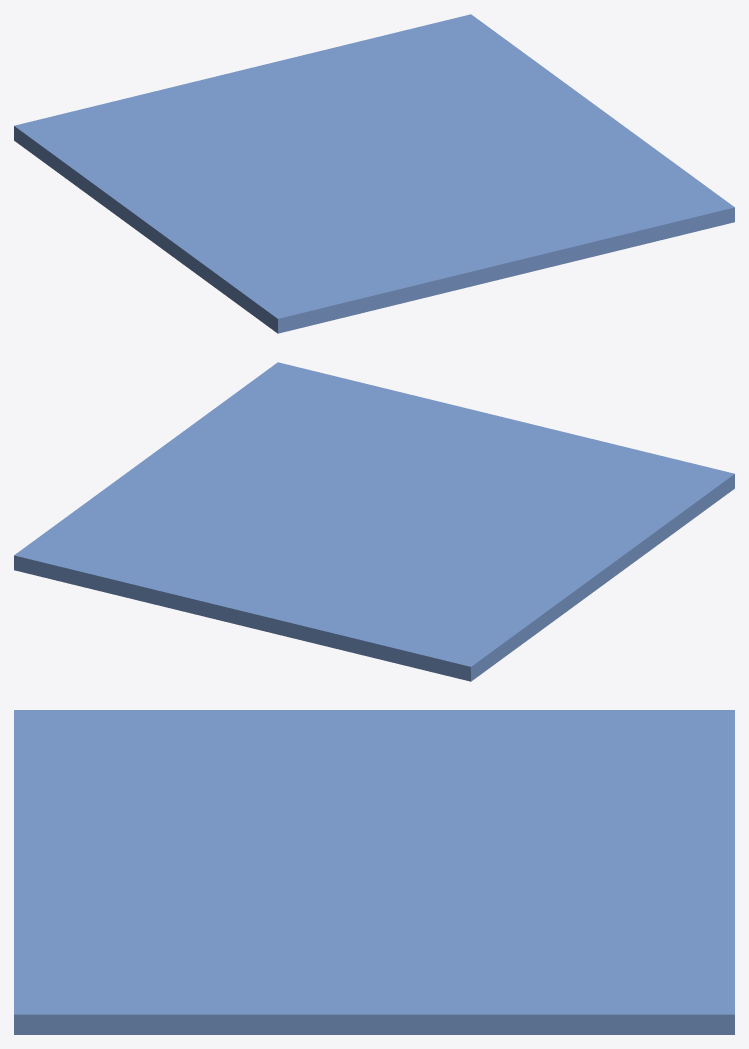
The model's file is Keypad - Body.gltf.
3 renders of one model, top to bottom at view 1: azimuth 30°, elevation 25°; view 2: azimuth 150°, elevation 25°; view 3: azimuth 270°, elevation 25°, orthographic. The views are drawn at different scales.
Parts seen in each view (by area): view 1: Body; view 2: Body; view 3: Body.
Boxes of the visible parts, x1,y1,x2,y2 form: Body: (14,14,734,333); Body: (14,362,734,681); Body: (14,710,734,1034).
Size of the model in its own units: 1.62 by 0.05 by 1.62.
